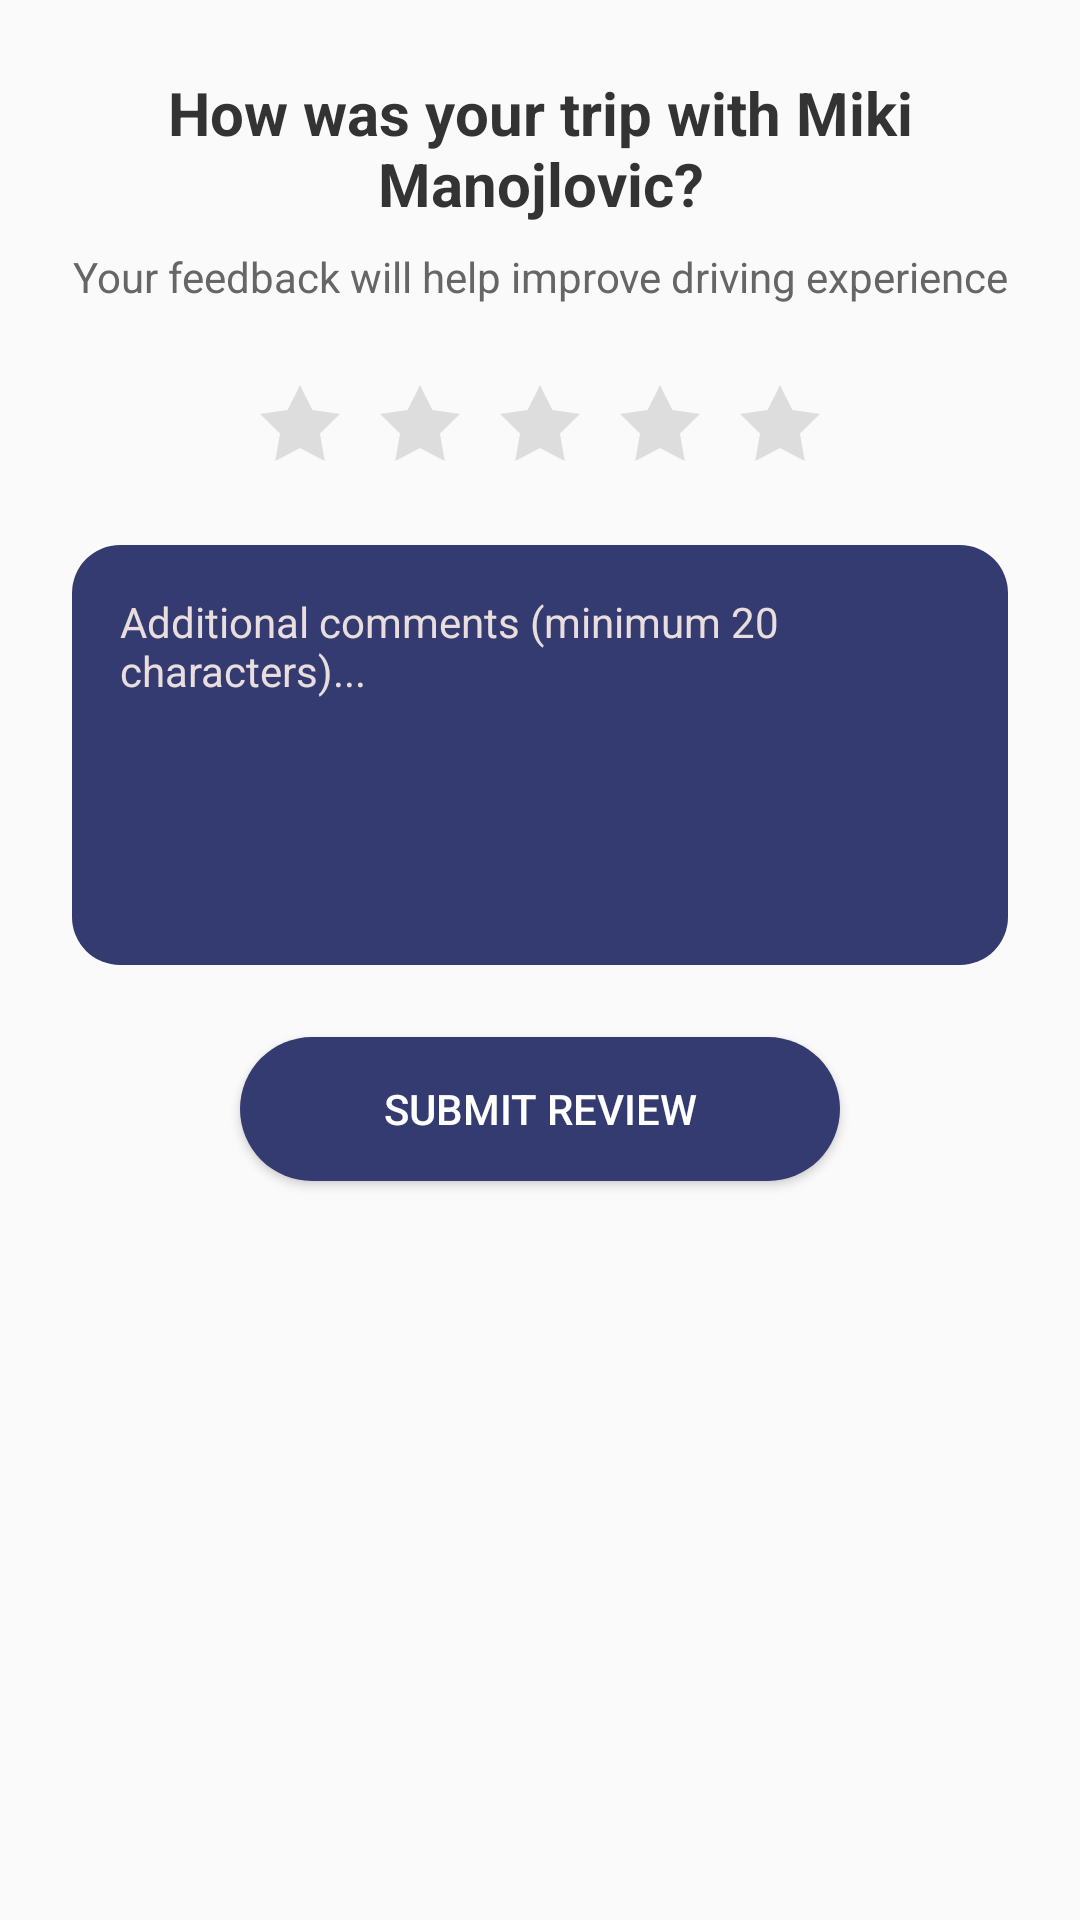

Screen size 1080*1920. Icon name, then its center in pixels as (x,y):
star: (300,423), (420,423), (540,423), (660,423), (780,423)
